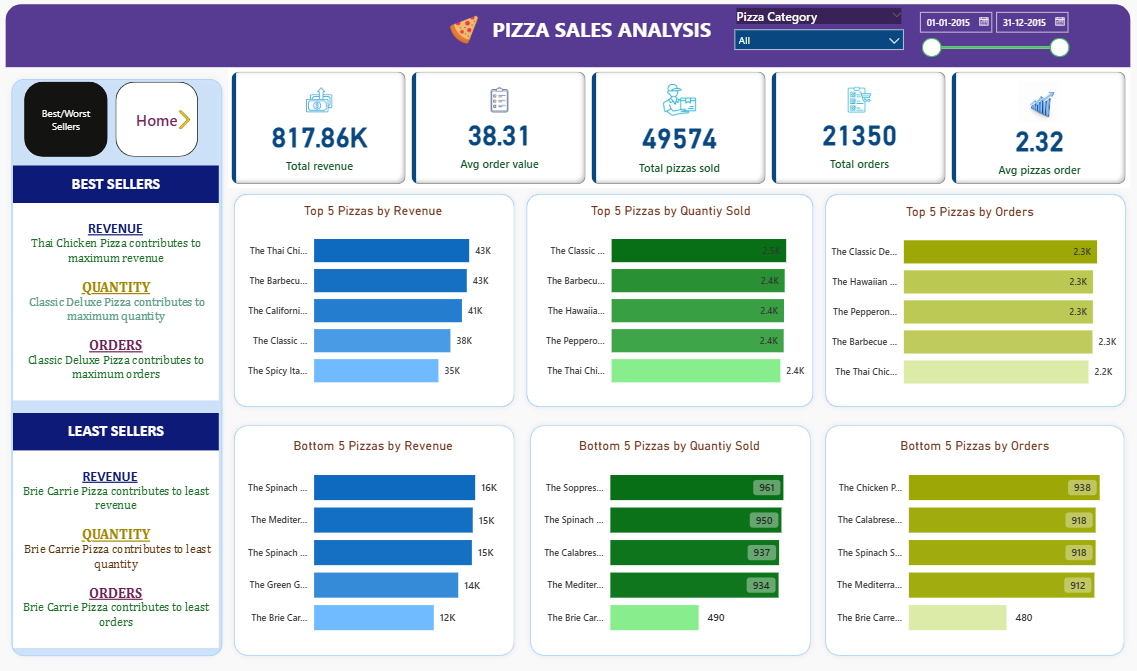

Layout of this report page (visuals, bound fields, positions):
{"tool":"powerbi","page":{"name":"Best/Worst Sellers","canvas":[1650,1000],"ordinal":1},"visuals":[{"type":"cardVisual","fields":{"Data":["pizza_sales.Total revenue","pizza_sales.Avg order value","pizza_sales.Total pizzas sold","pizza_sales.Total orders","pizza_sales.Avg pizzas order"]},"box":[367.1,100,1202.9,160],"z":0},{"type":"shape","box":[70,15.7,1500,84.3],"z":1000},{"type":"textbox","box":[710,24.3,310,50],"z":2000},{"type":"image","box":[652.9,25.7,55.7,48.6],"z":3000},{"type":"shape","box":[366.7,260,390,300],"z":4000},{"type":"shape","box":[70,107.1,297.1,785.7],"z":12000},{"type":"textbox","box":[80,230,274.3,50],"z":15000},{"type":"textbox","box":[80,280,274.3,262.9],"z":16000},{"type":"textbox","box":[80,560,274.3,50],"z":17000},{"type":"textbox","box":[80,610,274.3,262.9],"z":18000},{"type":"slicer","fields":{"Values":["pizza_sales.pizza_category"]},"box":[1031.4,15.7,245.7,84.3],"z":19000},{"type":"slicer","fields":{"Values":["pizza_sales.order_date"]},"box":[1277.1,15.7,220,84.3],"z":20000},{"type":"shape","box":[756.7,260,398.3,300],"z":20001},{"type":"shape","box":[1155,260,416.7,300],"z":20002},{"type":"shape","box":[366.7,568.3,390,323.3],"z":20003},{"type":"shape","box":[761.7,568.3,390,323.3],"z":20004},{"type":"shape","box":[1155,568.3,415,323.3],"z":20005},{"type":"barChart","title":"Top 5 Pizzas by Revenue","fields":{"Y":["pizza_sales.Total revenue"],"Category":["pizza_sales.pizza_name"]},"box":[377.1,280,367.1,261.4],"z":20006},{"type":"barChart","title":"Bottom 5 Pizzas by Revenue","fields":{"Y":["pizza_sales.Total revenue"],"Category":["pizza_sales.pizza_name"]},"box":[377.1,592.9,367.1,280],"z":20007},{"type":"barChart","title":"Top 5 Pizzas by Quantiy Sold","fields":{"Category":["pizza_sales.pizza_name"],"Y":["pizza_sales.Total pizzas sold"]},"box":[772.9,280,367.1,261.4],"z":20008},{"type":"barChart","title":"Bottom 5 Pizzas by Quantiy Sold","fields":{"Category":["pizza_sales.pizza_name"],"Y":["pizza_sales.Total pizzas sold"]},"box":[771.4,592.9,367.1,280],"z":20009},{"type":"barChart","title":"Top 5 Pizzas by Orders","fields":{"Category":["pizza_sales.pizza_name"],"Y":["pizza_sales.Total orders"]},"box":[1155.7,281.4,401.4,261.4],"z":20010},{"type":"barChart","title":"Bottom 5 Pizzas by Orders","fields":{"Category":["pizza_sales.pizza_name"],"Y":["pizza_sales.Total orders"]},"box":[1161.4,592.9,401.4,280],"z":20011},{"type":"pageNavigator","box":[95.7,118.6,111.4,100],"z":20012},{"type":"pageNavigator","box":[217.1,118.6,110,100],"z":20013},{"type":"image","box":[290,151.4,37.1,34.3],"z":20014}]}

Visuals, with their boxes in screenshot pixels (x1, y1, x2, y2), scaled from the page's 1650x1000 canvas onto the 1137x671 screenshot:
cardVisual - pizza_sales.Total revenue x pizza_sales.Avg order value: BBox(253, 67, 1082, 174)
shape: BBox(48, 11, 1082, 67)
textbox: BBox(489, 16, 703, 50)
image: BBox(450, 17, 488, 50)
shape: BBox(253, 174, 521, 376)
shape: BBox(48, 72, 253, 599)
textbox: BBox(55, 154, 244, 188)
textbox: BBox(55, 188, 244, 364)
textbox: BBox(55, 376, 244, 409)
textbox: BBox(55, 409, 244, 586)
slicer - pizza_sales.pizza_category: BBox(711, 11, 880, 67)
slicer - pizza_sales.order_date: BBox(880, 11, 1032, 67)
shape: BBox(521, 174, 796, 376)
shape: BBox(796, 174, 1083, 376)
shape: BBox(253, 381, 521, 598)
shape: BBox(525, 381, 794, 598)
shape: BBox(796, 381, 1082, 598)
"Top 5 Pizzas by Revenue" barChart: BBox(260, 188, 513, 363)
"Bottom 5 Pizzas by Revenue" barChart: BBox(260, 398, 513, 586)
"Top 5 Pizzas by Quantiy Sold" barChart: BBox(533, 188, 786, 363)
"Bottom 5 Pizzas by Quantiy Sold" barChart: BBox(532, 398, 785, 586)
"Top 5 Pizzas by Orders" barChart: BBox(796, 189, 1073, 364)
"Bottom 5 Pizzas by Orders" barChart: BBox(800, 398, 1077, 586)
pageNavigator: BBox(66, 80, 143, 147)
pageNavigator: BBox(150, 80, 225, 147)
image: BBox(200, 102, 225, 125)
